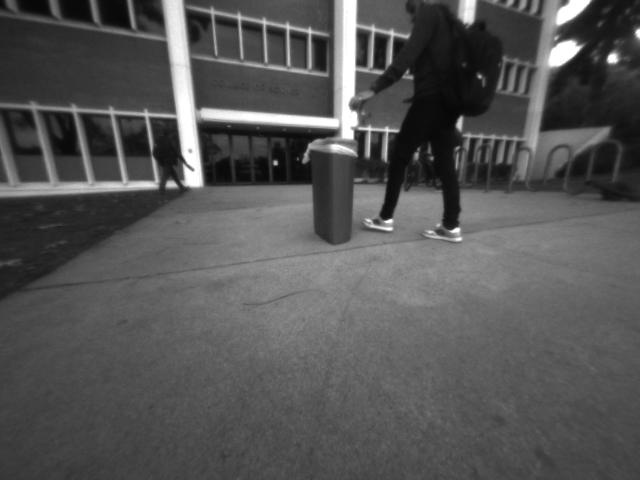trashcan_open: (306, 127, 362, 255)
